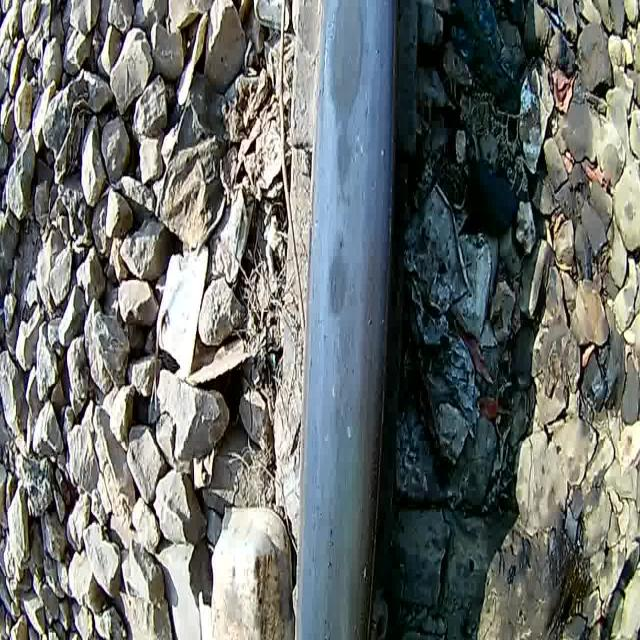Squats: (272, 0, 420, 640)
